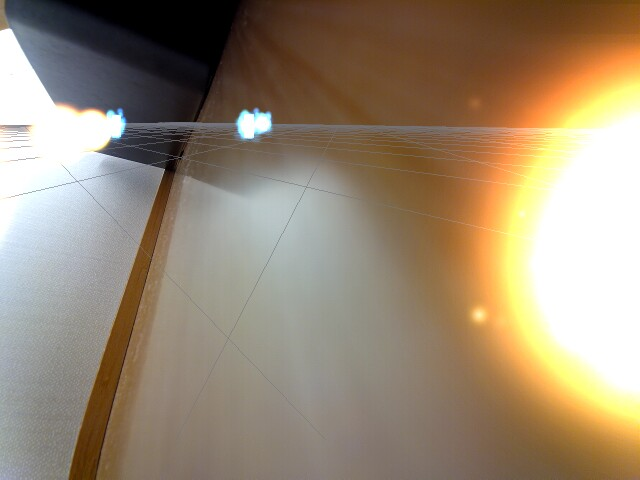fire: (490, 57, 636, 437), (25, 103, 111, 154), (0, 131, 20, 244)
